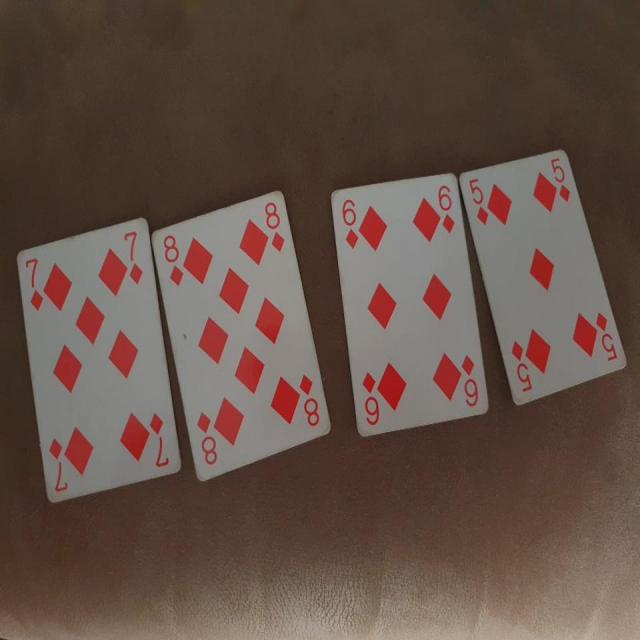5 Diamonds: (460, 147, 629, 409)
6 Diamonds: (328, 170, 488, 437)
7 Diamonds: (13, 215, 184, 506)
8 Diamonds: (151, 188, 331, 491)
